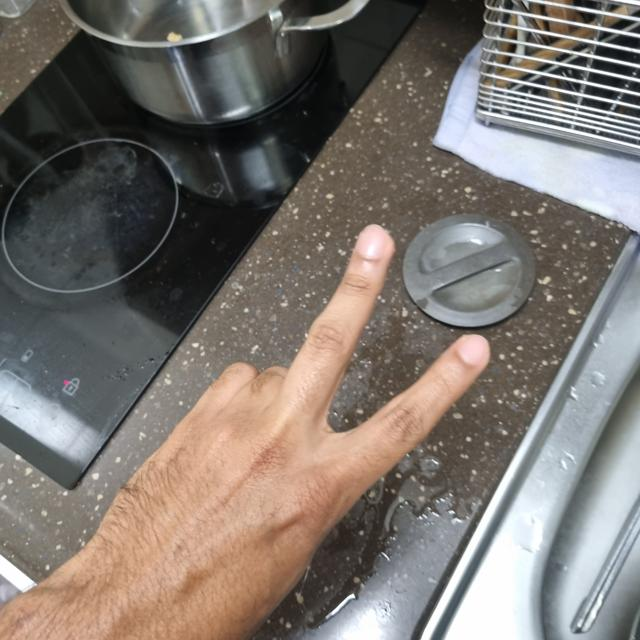Scissors: (66, 232, 487, 639)
